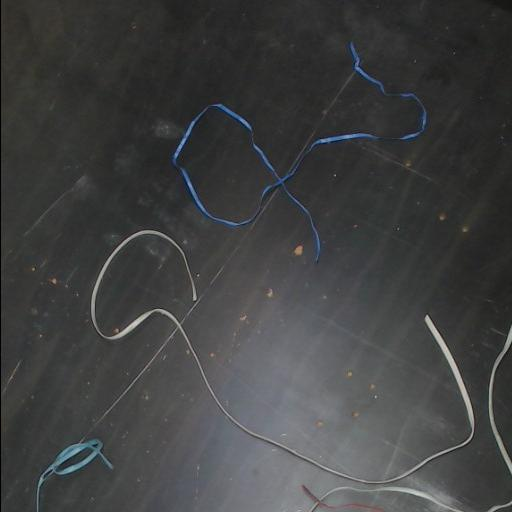conveyor belt: (1, 0, 512, 511), (330, 492, 450, 511)
thread: (90, 229, 474, 511), (171, 42, 426, 261), (35, 439, 112, 511), (178, 168, 262, 226), (487, 321, 512, 479), (482, 498, 512, 511)
